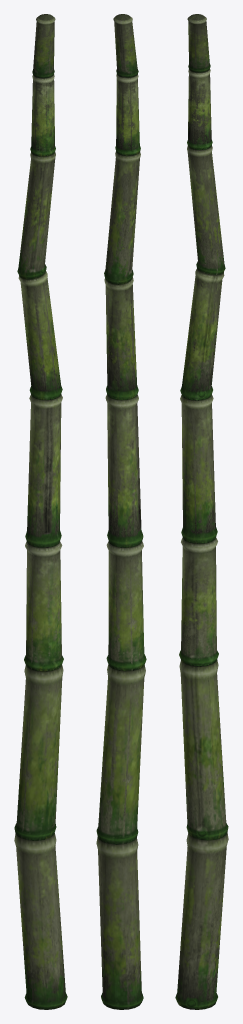
File: BambooSet_part_25.fbx
3 renders of one model, left to right at view 1: azimuth 90°, elevation 25°; view 2: azimuth 150°, elevation 25°; view 3: azimuth 270°, elevation 25°, orthographic.
Parts seen in each view (by area): view 1: Object_48.001; view 2: Object_48.001; view 3: Object_48.001.
Part boxes in pixels (left/top/right/bottom): Object_48.001: left=14, top=14, right=67, bottom=1009; Object_48.001: left=96, top=14, right=146, bottom=1009; Object_48.001: left=175, top=14, right=228, bottom=1009.
Size of the model in its own units: 142 by 3236 by 158.
